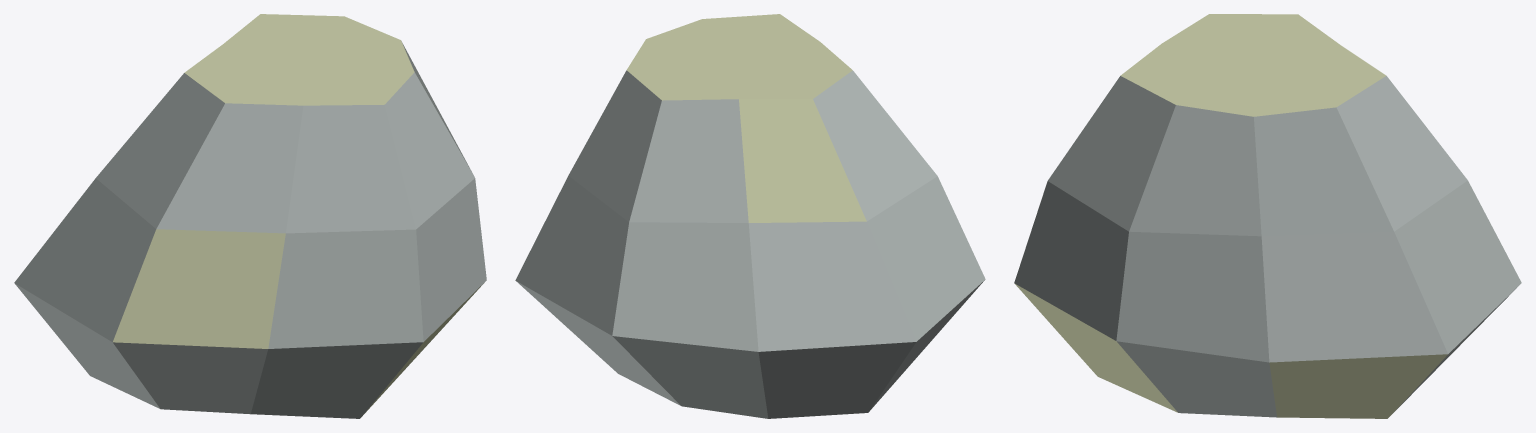
Rendered from crown_boulder.glb.
The picture shows the model from 3 angles, left to right: view 1: azimuth 30°, elevation 25°; view 2: azimuth 150°, elevation 25°; view 3: azimuth 270°, elevation 25°; orthographic projection. The views are drawn at different scales.
Parts seen in each view (by area): view 1: crown_boulder; view 2: crown_boulder; view 3: crown_boulder.
Part boxes in pixels (x1,y1,x2,y2): crown_boulder: (14,14,486,418); crown_boulder: (515,14,985,418); crown_boulder: (1014,14,1521,418).
Bounding box in the file's own units: 0.9509 × 0.68 × 0.9794.
